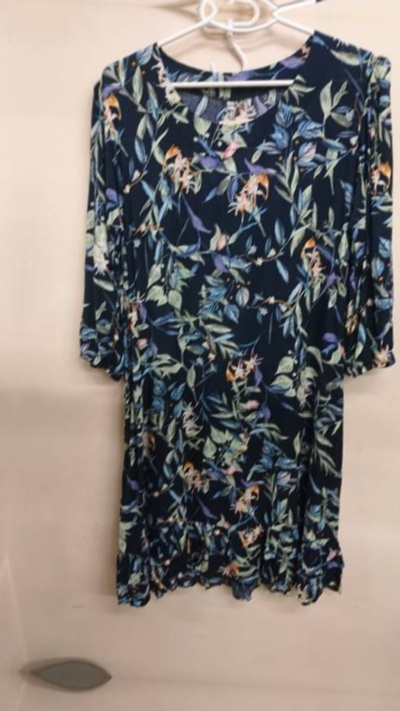Dress: (18, 16, 400, 635), (0, 0, 23, 611), (56, 0, 400, 7)
